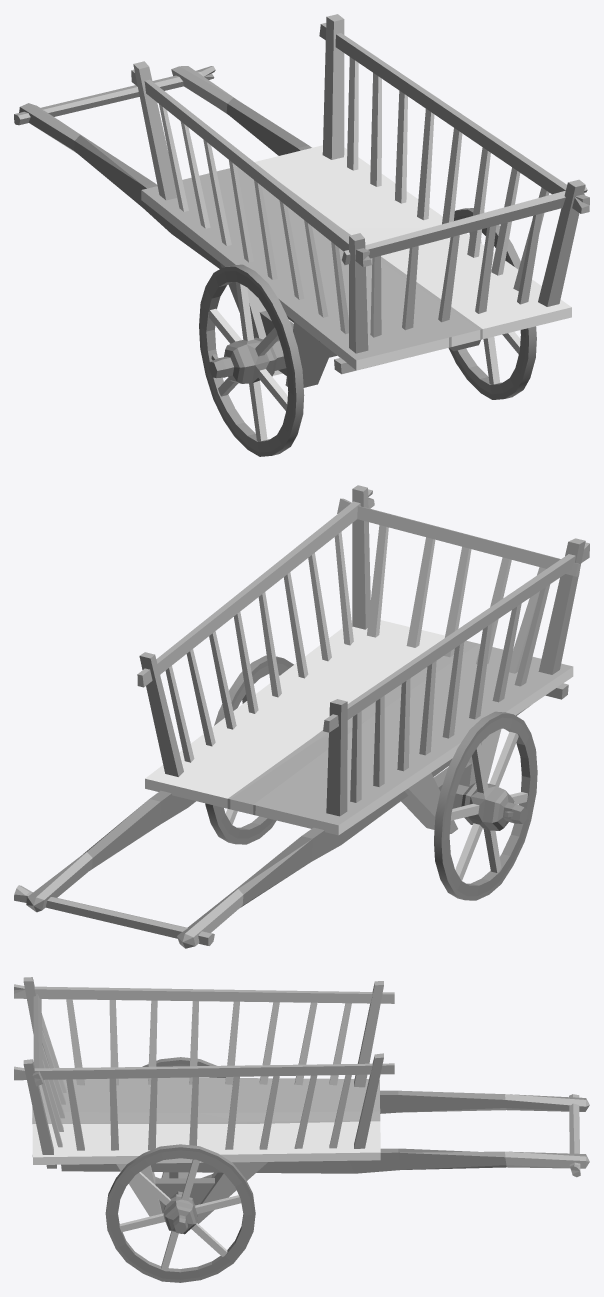
File: PT_Cart_03.fbx
3 renders of one model, top to bottom at view 1: azimuth 30°, elevation 25°; view 2: azimuth 150°, elevation 25°; view 3: azimuth 270°, elevation 25°, orthographic. The views are drawn at different scales.
Visible parts, largest first — view 1: PT_Cart_03_body, PT_Cart_03_wheels; view 2: PT_Cart_03_body, PT_Cart_03_wheels; view 3: PT_Cart_03_body, PT_Cart_03_wheels.
Boxes of the visible parts, x1,y1,x2,y2 form: PT_Cart_03_body: (14,14,589,387); PT_Cart_03_wheels: (199,208,536,456); PT_Cart_03_body: (14,485,589,948); PT_Cart_03_wheels: (205,655,537,900); PT_Cart_03_body: (14,977,589,1223); PT_Cart_03_wheels: (105,1057,255,1282).
Size of the model in its own units: 171 by 150 by 359.
Materials: 1 (1 with a texture image).
